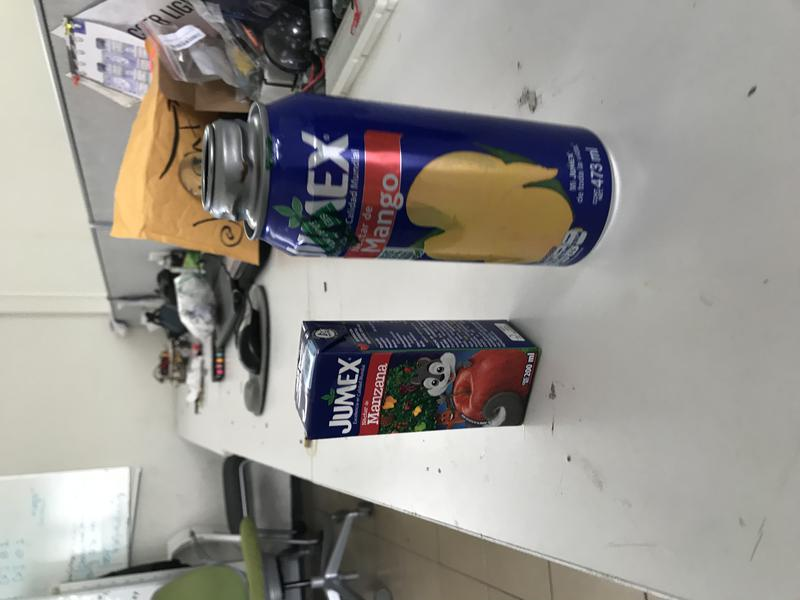jumex_botella: (199, 92, 617, 268)
jumex_cajita: (294, 321, 542, 441)
